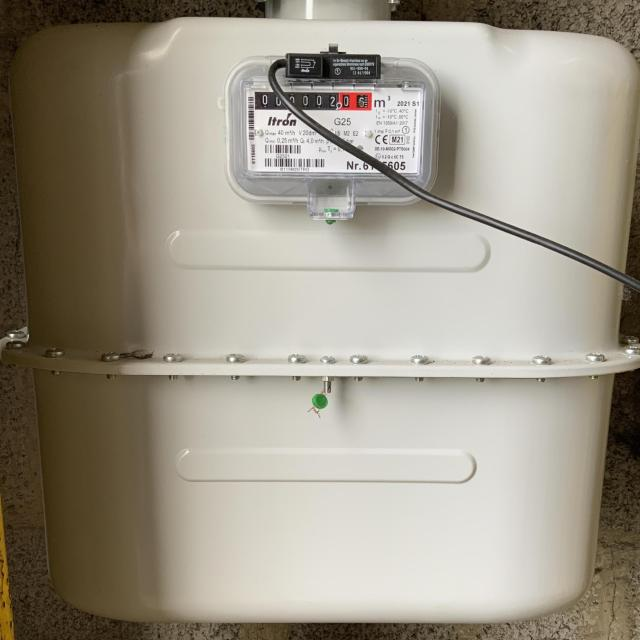gaz_meter: (222, 62, 432, 199)
indication: (255, 92, 373, 111)
